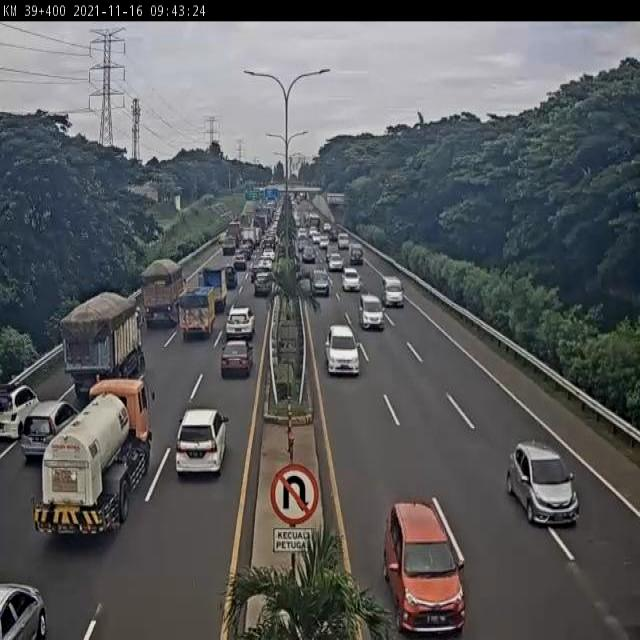Car: (383, 499, 466, 634), (507, 440, 579, 524), (174, 408, 232, 476), (20, 397, 82, 460), (1, 582, 46, 640), (0, 382, 40, 441), (324, 324, 360, 376), (220, 338, 253, 378), (225, 304, 255, 341), (358, 293, 385, 330), (382, 276, 404, 307), (311, 269, 330, 296), (341, 267, 361, 292), (254, 272, 272, 296), (328, 252, 344, 272), (225, 266, 238, 289), (349, 245, 363, 266), (222, 236, 236, 256), (302, 246, 316, 264), (262, 248, 276, 264), (338, 233, 350, 250), (319, 236, 329, 250), (312, 232, 322, 245), (298, 228, 308, 240), (323, 222, 331, 234)
Truck: (34, 378, 152, 542), (60, 290, 142, 387), (143, 257, 187, 328), (179, 283, 217, 340)
